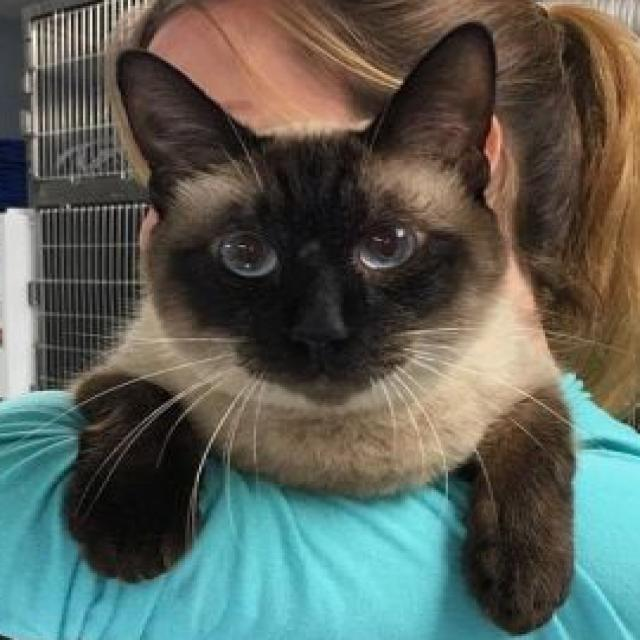Siamese: (64, 17, 580, 639)
